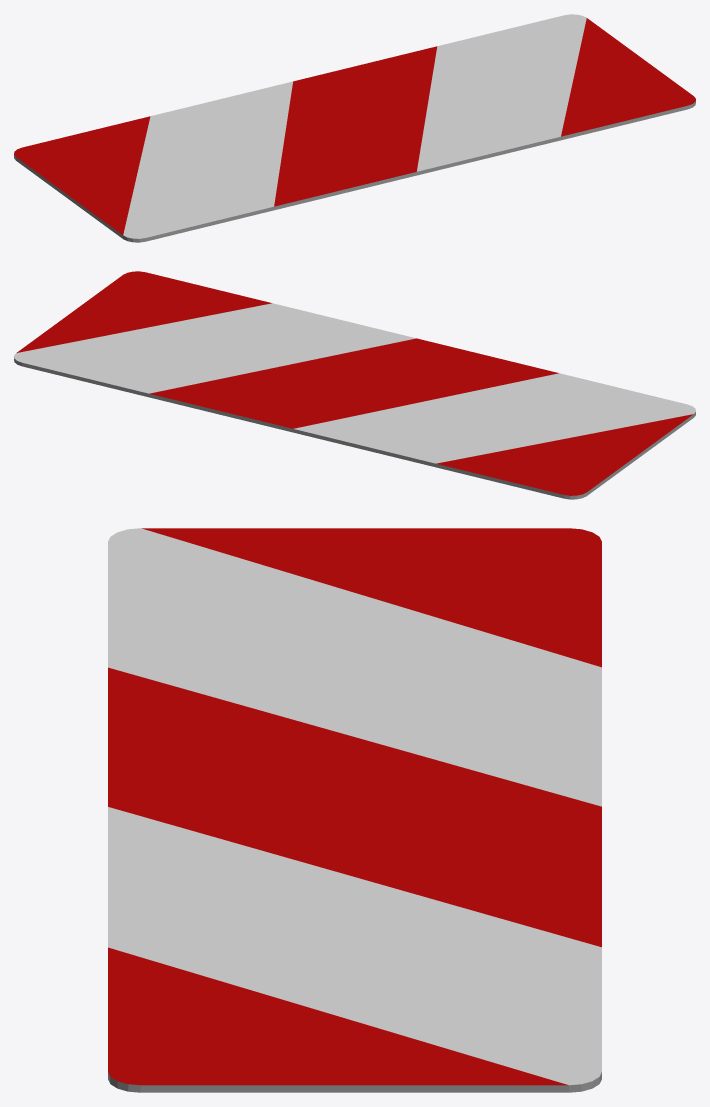
3 renders of one model, top to bottom at view 1: azimuth 30°, elevation 25°; view 2: azimuth 150°, elevation 25°; view 3: azimuth 270°, elevation 25°, orthographic. The views are drawn at different scales.
Visible parts, largest first — view 1: world; view 2: world; view 3: world.
Part boxes in pixels (<box>): world: <box>14,14,695,242</box>; world: <box>14,271,695,499</box>; world: <box>108,528,601,1092</box>.
Bounding box in the file's own units: 0.016 × 0.0001 × 0.006.
